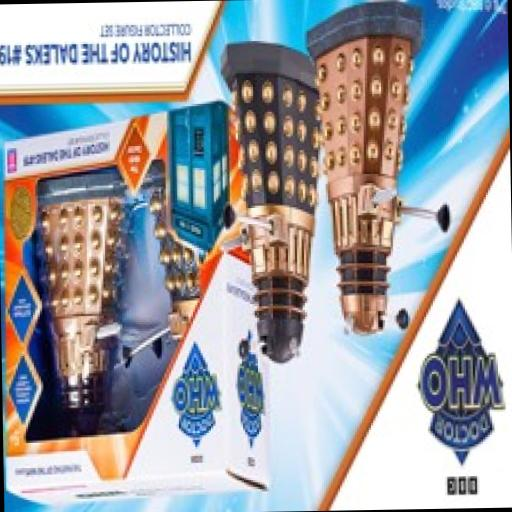dalek: (302, 6, 456, 340), (211, 30, 320, 366), (35, 167, 165, 422)
